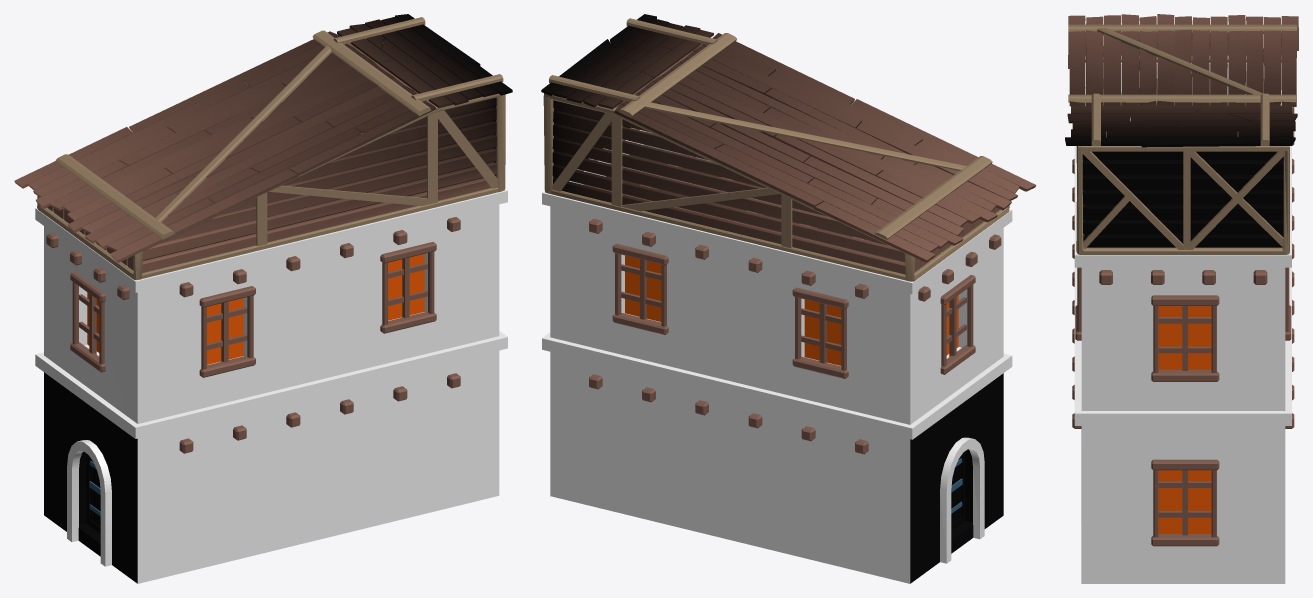
Rendered from civilian_house_34_i.FBX.
3 views of the same model, side by side, from view 1: azimuth 30°, elevation 25°; view 2: azimuth 150°, elevation 25°; view 3: azimuth 270°, elevation 25° (orthographic). The views are drawn at different scales.
Visible parts, largest first — view 1: civilian_house_34_i_LOD0; view 2: civilian_house_34_i_LOD0; view 3: civilian_house_34_i_LOD0.
Part boxes in pixels (left/top/right/bottom): civilian_house_34_i_LOD0: left=14, top=14, right=512, bottom=583; civilian_house_34_i_LOD0: left=541, top=14, right=1036, bottom=583; civilian_house_34_i_LOD0: left=1065, top=14, right=1298, bottom=583.
Size of what is drawn, in the model's own units: 1104 by 1093 by 516.
